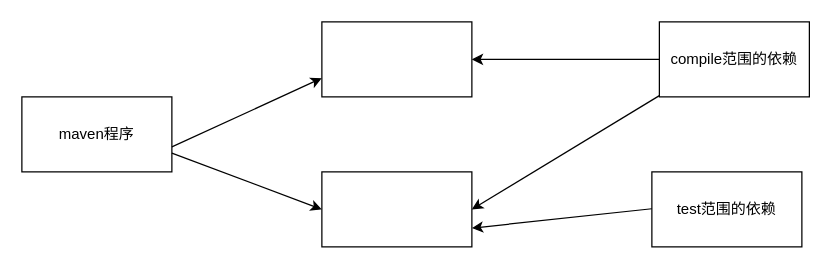
Image size: 831x269. Some labels were removed from this diagram. Each missing label, with the centre of its shape:
main: [396,59]
test: [396,209]
